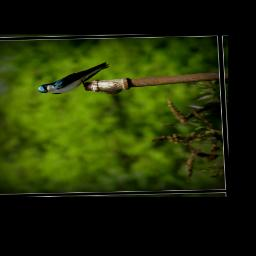Swallow: (35, 62, 113, 95)
